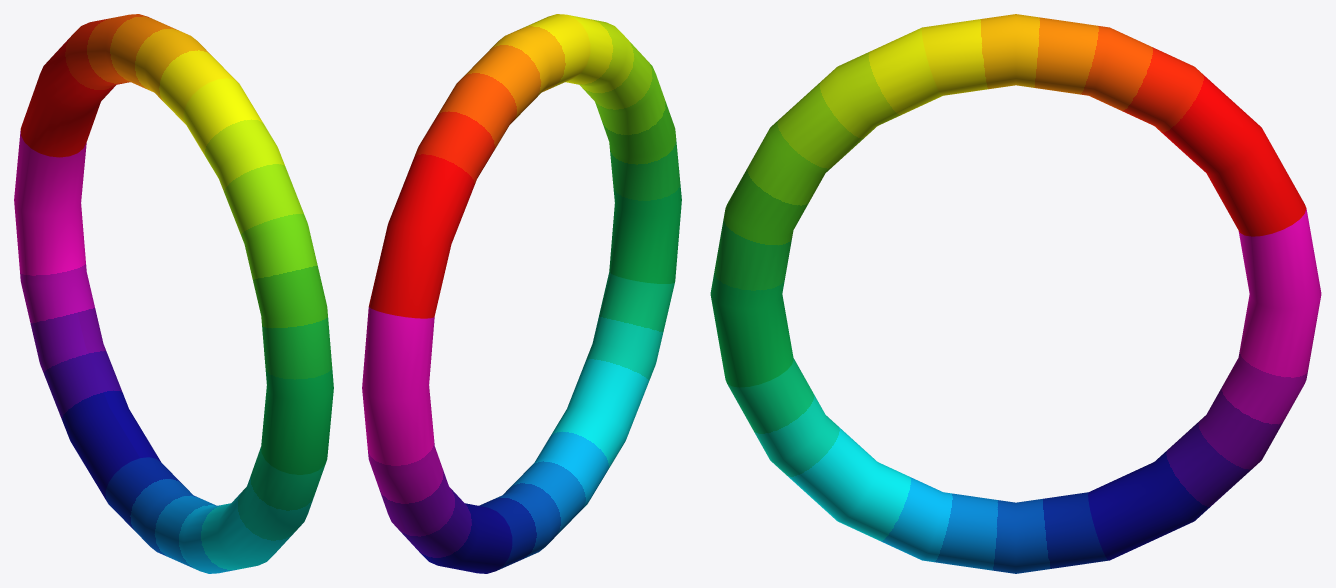
File: RainbowRing.obj
3 views of the same model, side by side, from view 1: azimuth 30°, elevation 25°; view 2: azimuth 150°, elevation 25°; view 3: azimuth 270°, elevation 25° (orthographic). The views are drawn at different scales.
Size of the model in its own units: 4 by 34 by 34.
1 material, 1 textured.
